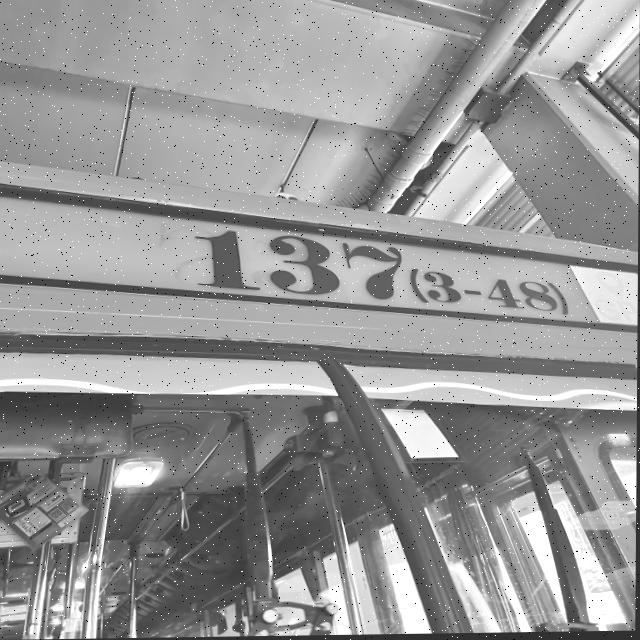BMTA-bus: (0, 156, 638, 640)
Bus Line Number: (175, 220, 587, 322)
